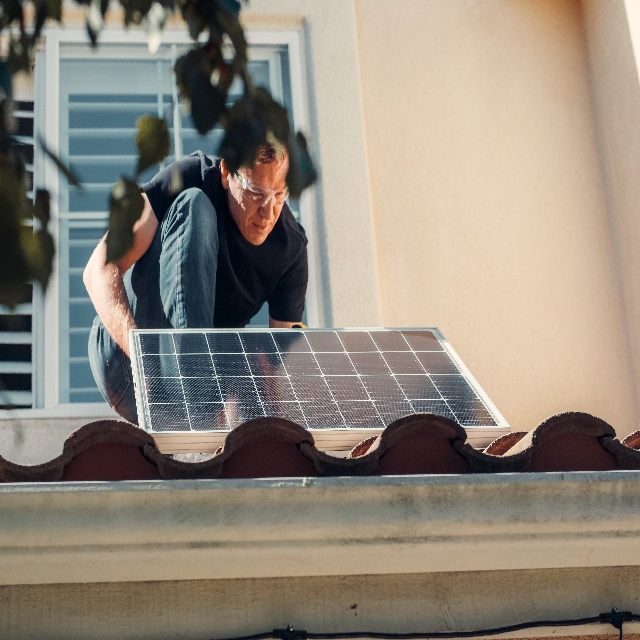Gafas: (237, 172, 288, 203)
